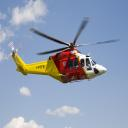helicopter: (6, 12, 123, 98)
